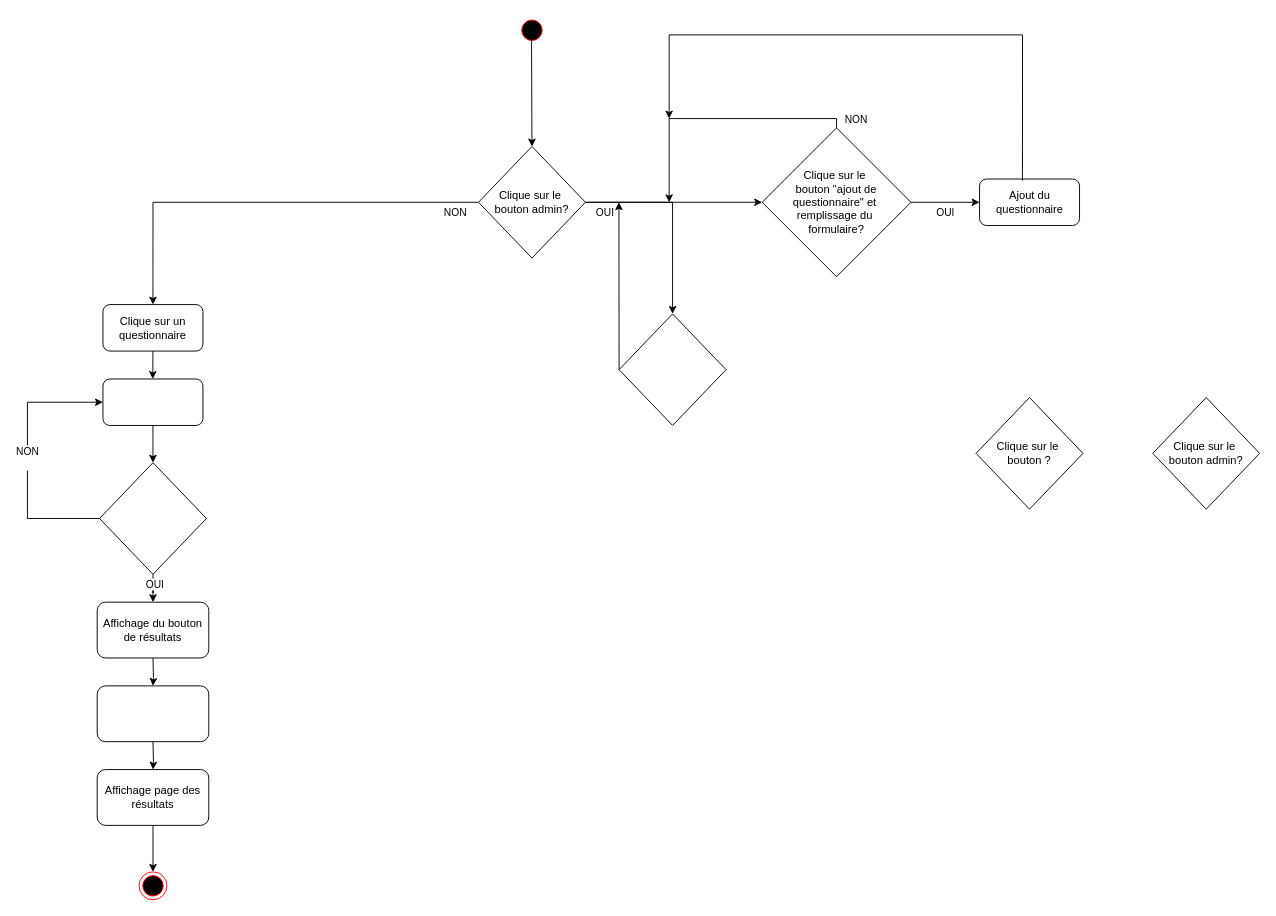
Some shapes in this 1276 by 916 pixel diagram are drawn without their labels. The centre of each missing label's shape, as x and y in pixels:
"Affichage Page du questionnaire" belongs at (x=152, y=401).
"Clique sur le bouton des résultats" belongs at (x=152, y=713).
"Clique sur un questionnaire ?" belongs at (x=672, y=369).
"Le Questionnaire est-il rempli ?" belongs at (x=152, y=518).
